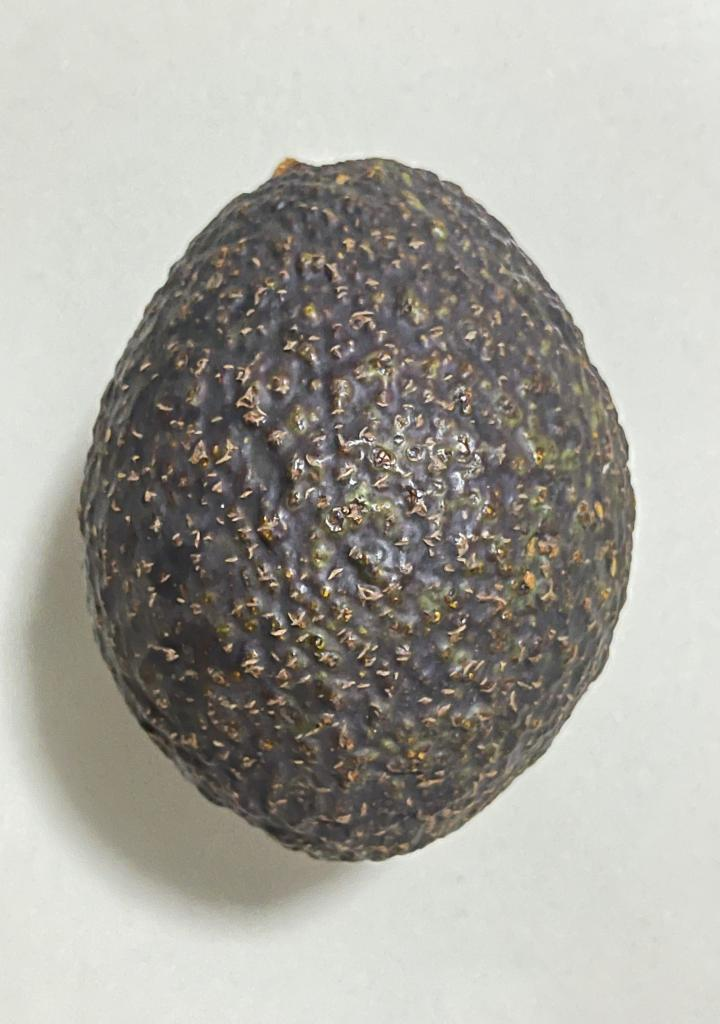Level2: (72, 137, 646, 871)
